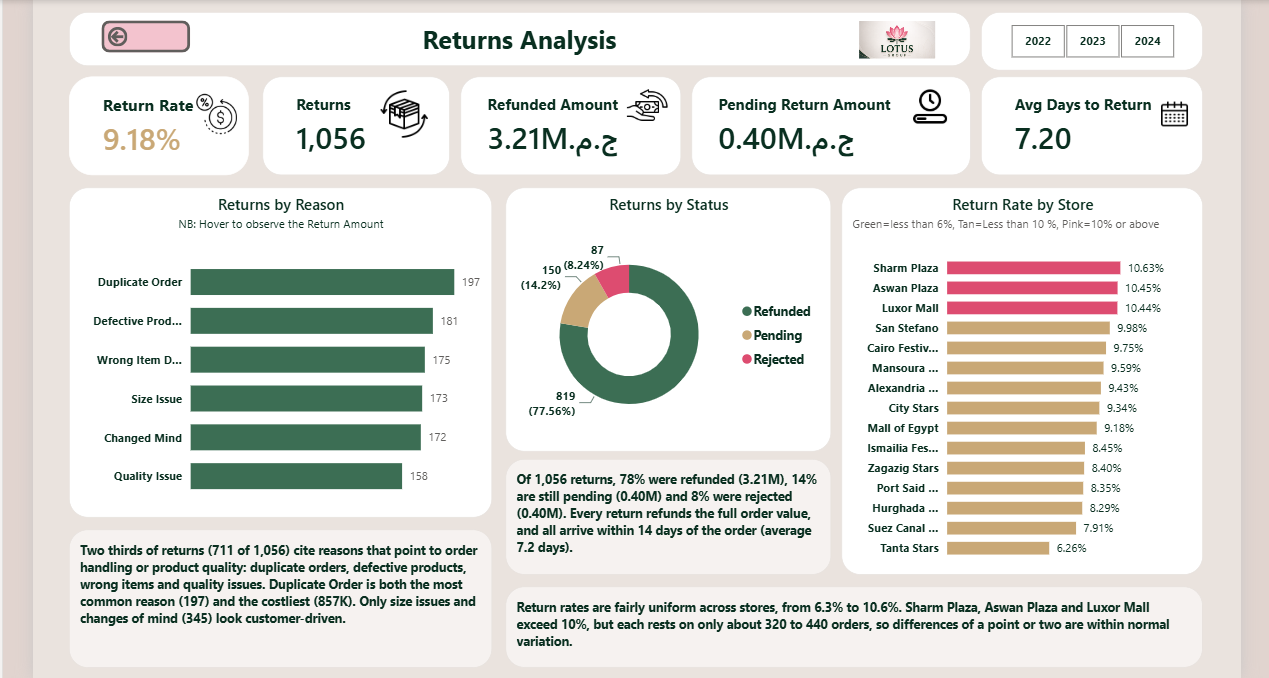

The page's visual inventory and layout, read from the dashboard file:
{"tool":"powerbi","page":{"name":"Returns Analysis","canvas":[1280,720],"ordinal":5},"visuals":[{"type":"cardVisual","fields":{"Data":["_Measures.Return Rate"]},"box":[38.2,81.1,190.9,105],"z":0},{"type":"cardVisual","fields":{"Data":["_Measures.Total Returns"]},"box":[243.4,81.1,198.8,105],"z":1000},{"type":"cardVisual","fields":{"Data":["_Measures.Total Refunded Amount"]},"box":[453.3,81.1,233.8,105],"z":2000},{"type":"cardVisual","fields":{"Data":["_Measures.Total Pending Return Amount"]},"box":[698.3,81.1,295.9,105],"z":3000},{"type":"cardVisual","fields":{"Data":["Avg(fact_orders.Days to Return)"]},"box":[1005.3,81.1,235.4,105],"z":4000},{"type":"clusteredBarChart","title":"Returns by Reason","fields":{"Category":["fact_orders.fact_returns.return_reason"],"Y":["_Measures.Total Orders"]},"box":[38.2,198.8,448.6,349.9],"z":5000},{"type":"donutChart","title":"Returns by Status","fields":{"Category":["fact_orders.fact_returns.return_status"],"Y":["_Measures.Total Returns"]},"box":[501,198.8,345.2,279.9],"z":6000},{"type":"clusteredBarChart","title":"Return Rate by Store","fields":{"Category":["dim_stores.store_name"],"Y":["_Measures.Return Rate"]},"box":[857.3,198.8,383.3,410.4],"z":7000},{"type":"textbox","box":[38.2,561.5,448.6,146.3],"z":8000},{"type":"textbox","box":[501,486.7,345.2,122.5],"z":9000},{"type":"textbox","box":[501,621.9,739.6,85.9],"z":10000},{"type":"shape","box":[38.2,12.7,956,57.3],"z":11000},{"type":"actionButton","box":[69.3,19.3,100,40],"z":12000},{"type":"slicer","fields":{"Values":["dim_date.year"]},"box":[1005.3,12.7,235.4,62],"z":13000},{"type":"image","box":[356.3,92.3,74.8,57.3],"z":14000},{"type":"image","box":[1196.1,89.1,28.6,63.6],"z":15000},{"type":"image","box":[628.3,89.1,46.1,44.5],"z":16000},{"type":"image","box":[927.3,92.3,47.7,41.4],"z":17000},{"type":"image","box":[171.8,92.3,46.1,57.3],"z":18000},{"type":"image","box":[857.3,22.3,117.7,39.8],"z":19000}]}

Visuals, with their boxes on the page's 1280x720 design canvas (x1, y1, x2, y2). These are canvas units, not pixel positions in the 1269x678 screenshot, which may show the page scaled, cropped or inside an application window:
cardVisual - _Measures.Return Rate: 38 81 229 186
cardVisual - _Measures.Total Returns: 243 81 442 186
cardVisual - _Measures.Total Refunded Amount: 453 81 687 186
cardVisual - _Measures.Total Pending Return Amount: 698 81 994 186
cardVisual - Avg(fact_orders.Days to Return): 1005 81 1241 186
"Returns by Reason" clusteredBarChart: 38 199 487 549
"Returns by Status" donutChart: 501 199 846 479
"Return Rate by Store" clusteredBarChart: 857 199 1241 609
textbox: 38 562 487 708
textbox: 501 487 846 609
textbox: 501 622 1241 708
shape: 38 13 994 70
actionButton: 69 19 169 59
slicer - dim_date.year: 1005 13 1241 75
image: 356 92 431 150
image: 1196 89 1225 153
image: 628 89 674 134
image: 927 92 975 134
image: 172 92 218 150
image: 857 22 975 62
